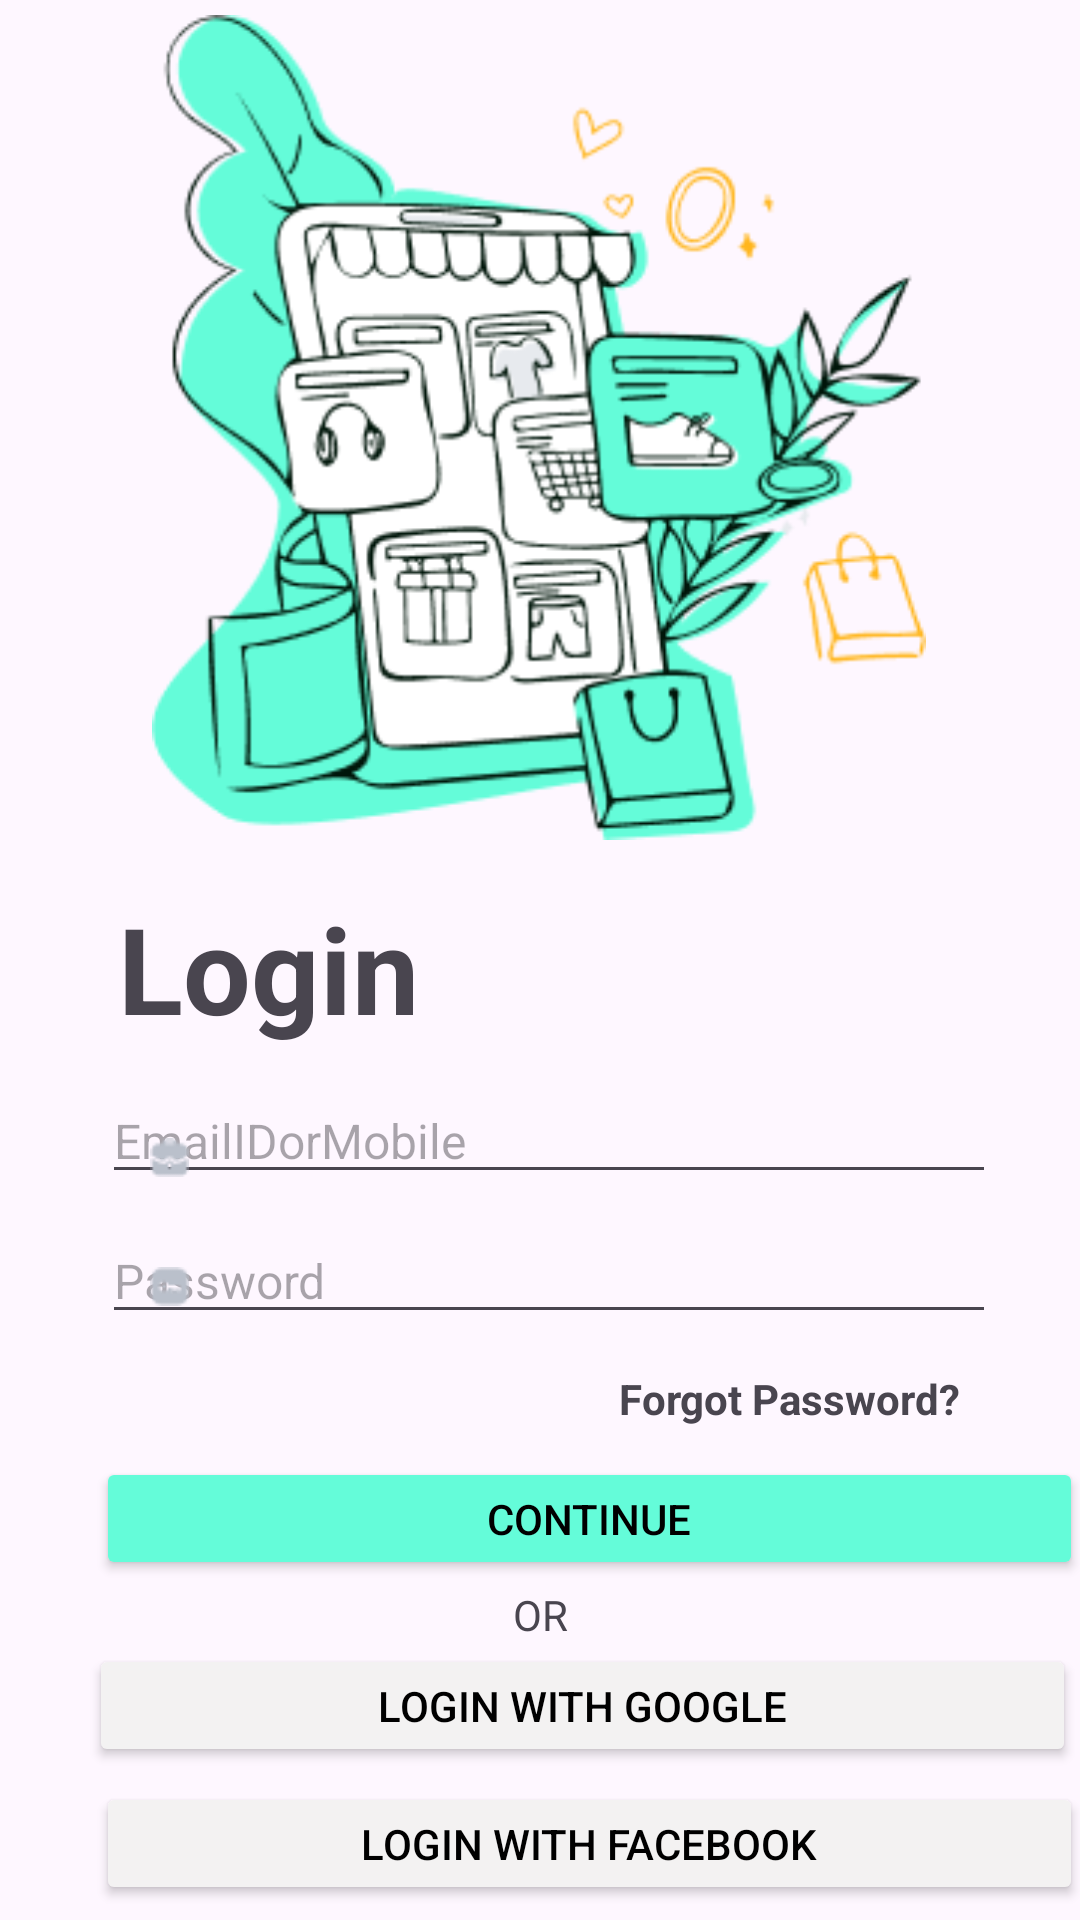

Where to tap for icons on this 1080×1920 app screen, as [x,y]:
work: [169,1157]
